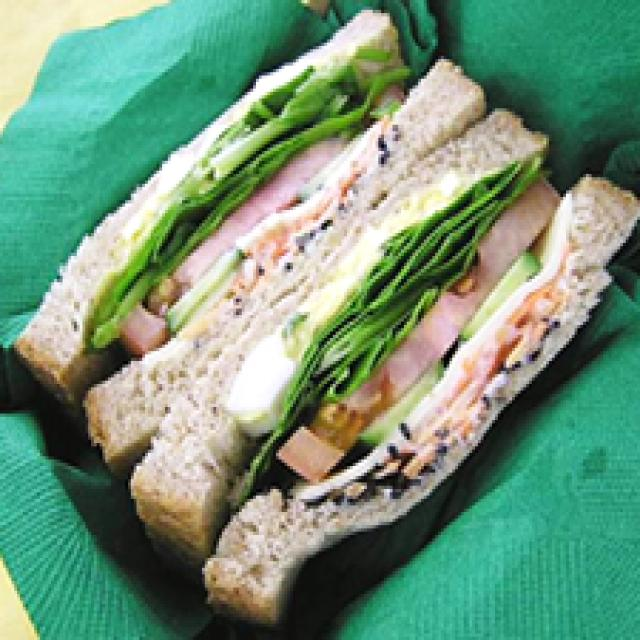三明治: (26, 26, 620, 588)
